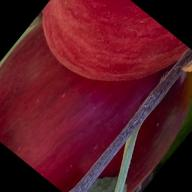Apples: (0, 0, 192, 192), (23, 0, 189, 121)
